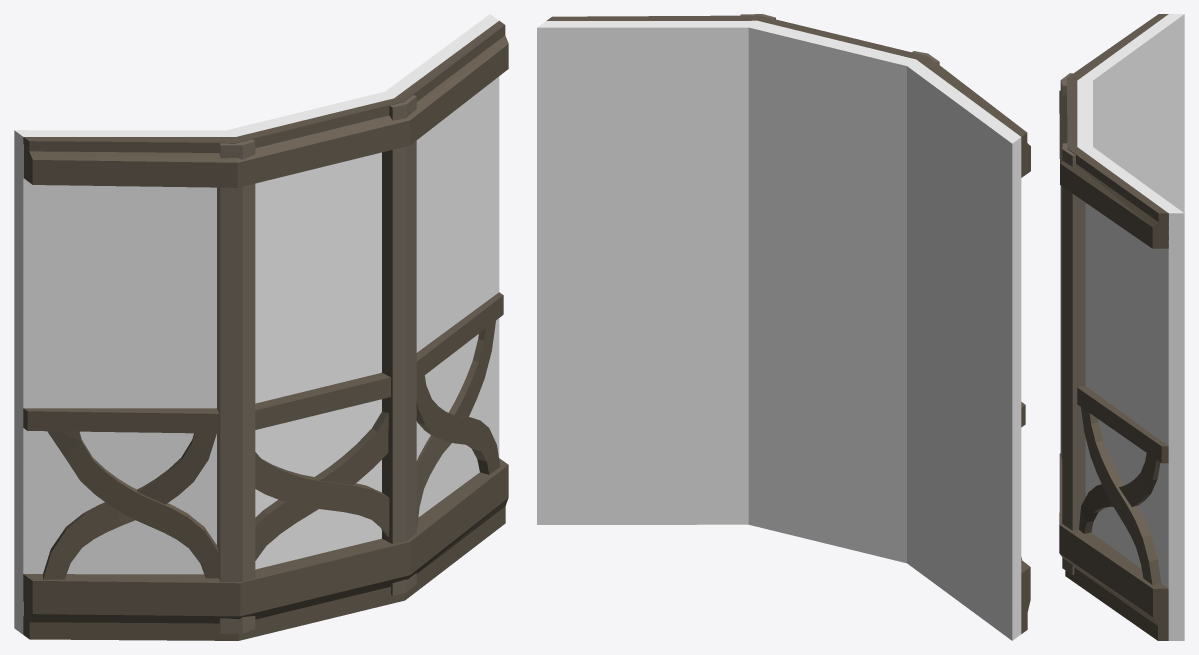
Rendered from WINDOW_02_Balkon_1.fbx.
3 views of the same model, side by side, from view 1: azimuth 30°, elevation 25°; view 2: azimuth 150°, elevation 25°; view 3: azimuth 270°, elevation 25° (orthographic). The views are drawn at different scales.
Visible parts, largest first — view 1: WINDOW_02_Balkon_1; view 2: WINDOW_02_Balkon_1; view 3: WINDOW_02_Balkon_1.
Boxes of the visible parts, x1=… form: WINDOW_02_Balkon_1: x1=14, y1=14, x2=508, y2=640; WINDOW_02_Balkon_1: x1=537, y1=14, x2=1030, y2=640; WINDOW_02_Balkon_1: x1=1059, y1=14, x2=1184, y2=640.
Size of the model in its own units: 300 by 300 by 79.55.
